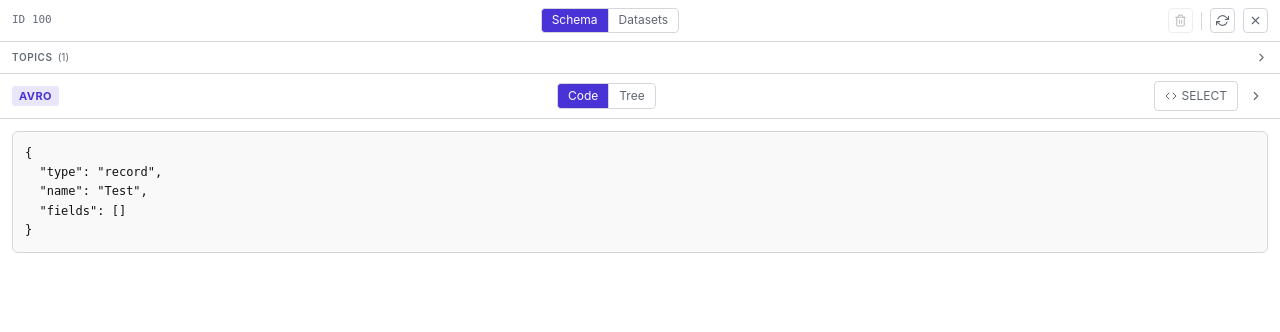
[@schema-topics] Topics section in SchemaDetail › 2c. dedupes topic with both -value and -key
This screenshot has width=1280, height=332.
Step 1. Click the text "Topics" → (32, 58), box [12,50,53,65]
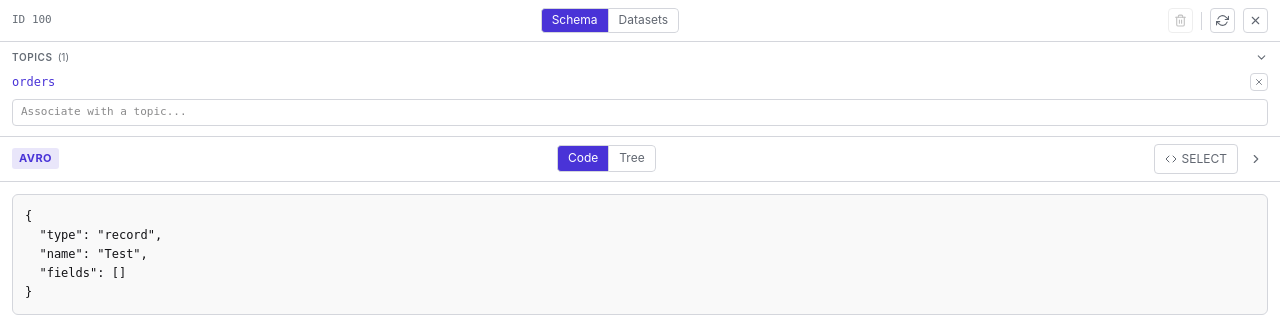
Expected: the number of buttons named "Go to topic orders" is 1, [12,73,1244,91]
